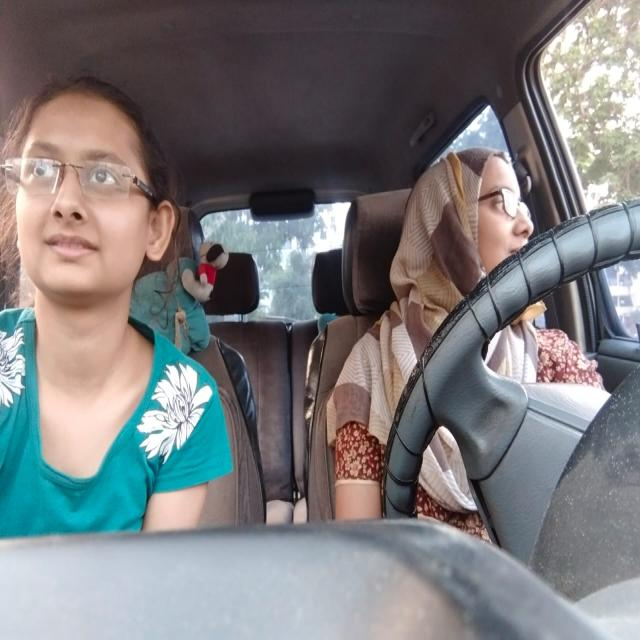LeftRight: (408, 143, 549, 335)
person: (0, 67, 176, 326)
